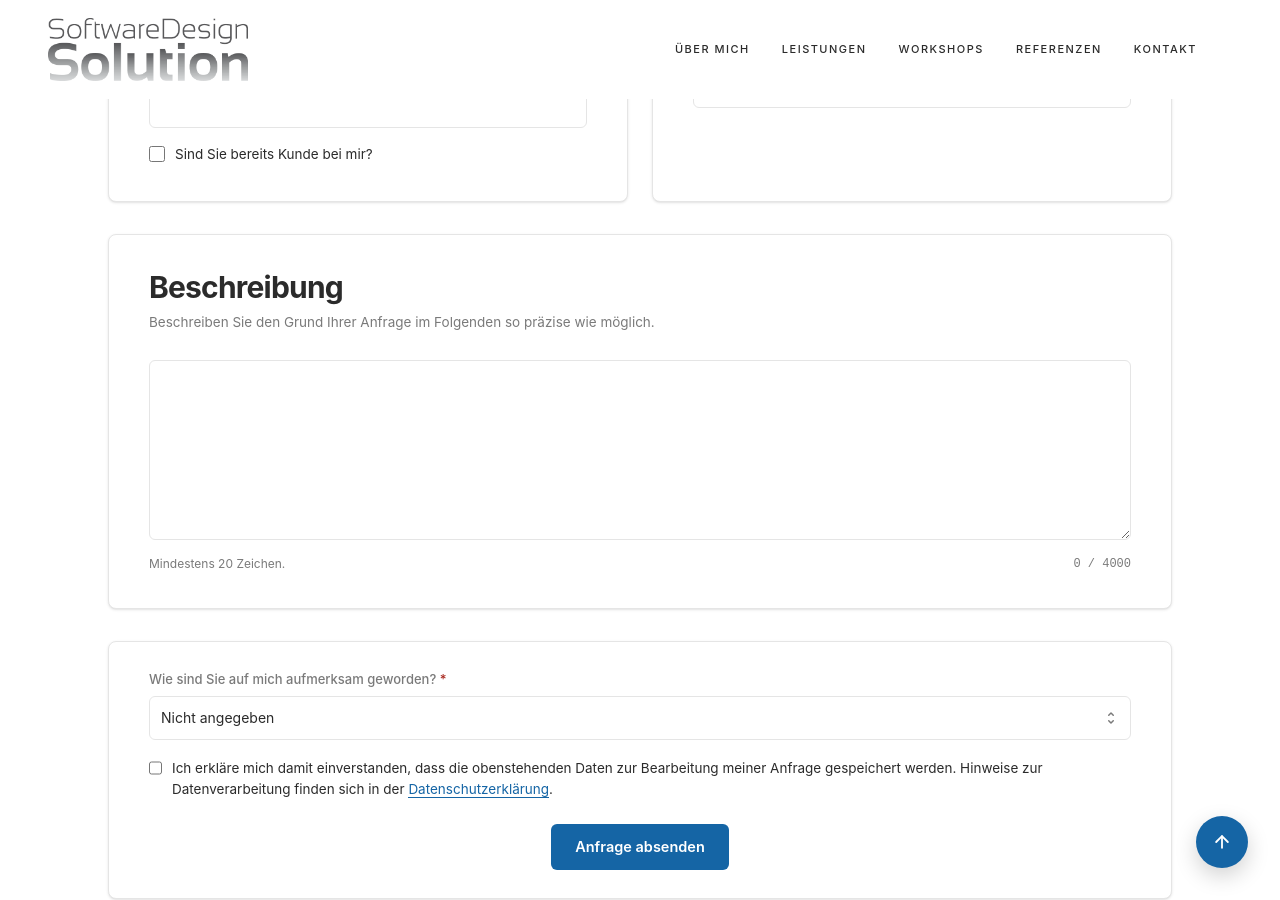
Test case: Kontakt-/Anfrageformular (/anfrage) - Happy Path + Validierungsfehler › Validierungsfehler › lässt den Live-Zeichenzähler für die Nachricht korrekt mitzählen
(page scrolled)
Step 1. Type "12345" into the text box named "nachricht" → (640, 451), box [149, 361, 1131, 541]
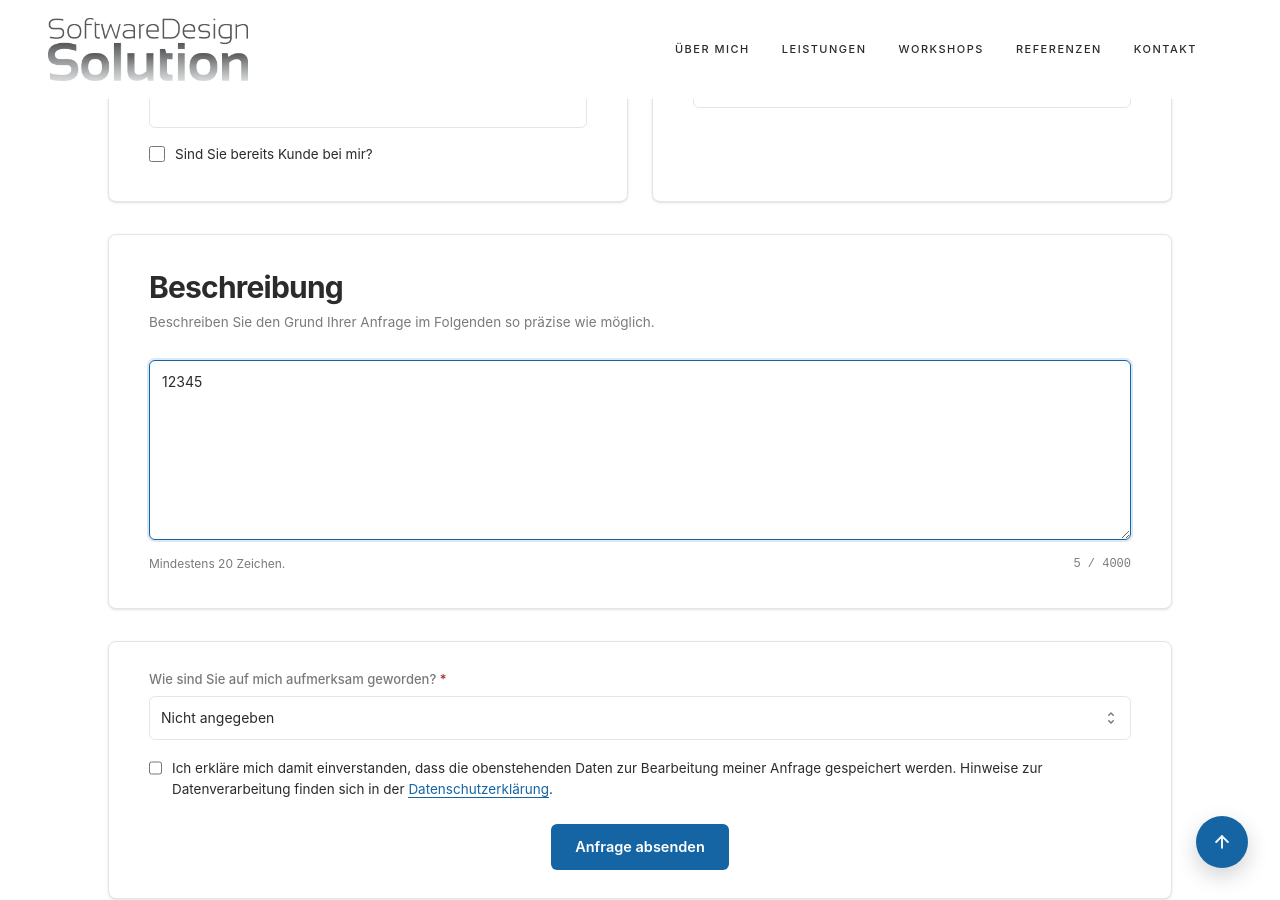
Now the text "5 / 4000" is shown, box [1073, 556, 1131, 572]
